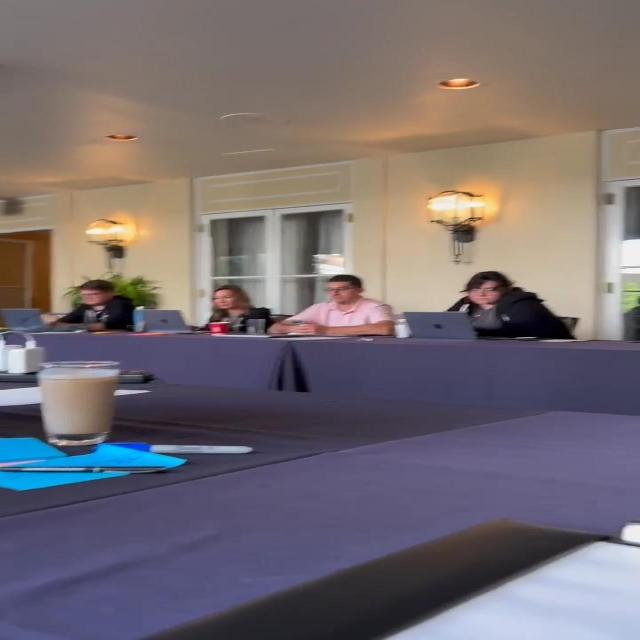NO-Mask: (467, 279, 502, 306), (325, 280, 354, 302), (212, 289, 235, 310), (80, 291, 104, 305)
